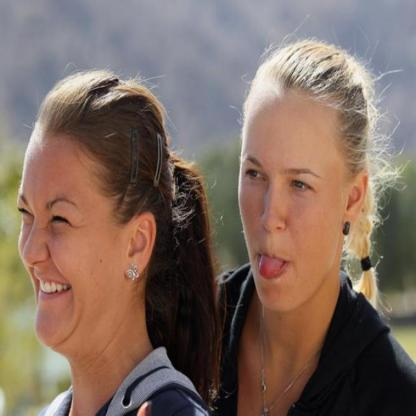face: (19, 133, 128, 347), (238, 94, 343, 311)
